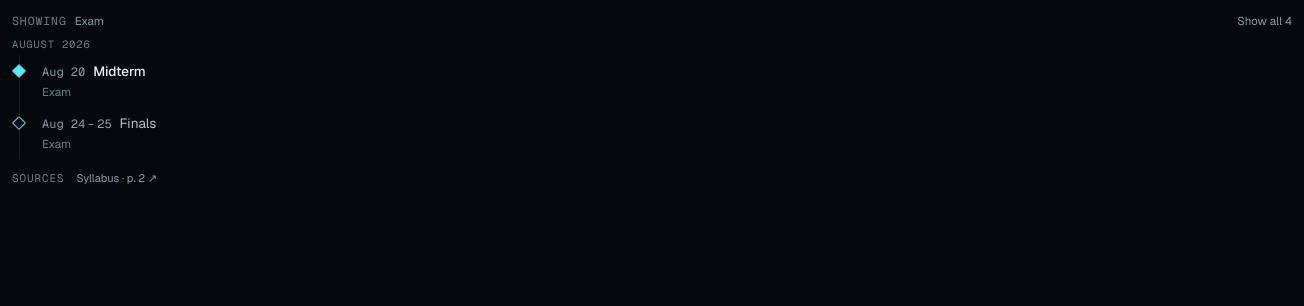
Scenario: temporal views › a focus shows only its events and can reveal the rest
This screenshot has width=1304, height=306.
Expected: the text "Classes start" is not shown
Click the button "Show all 4" at point(1265, 21), box x1=1237 y1=12 x2=1292 y2=29
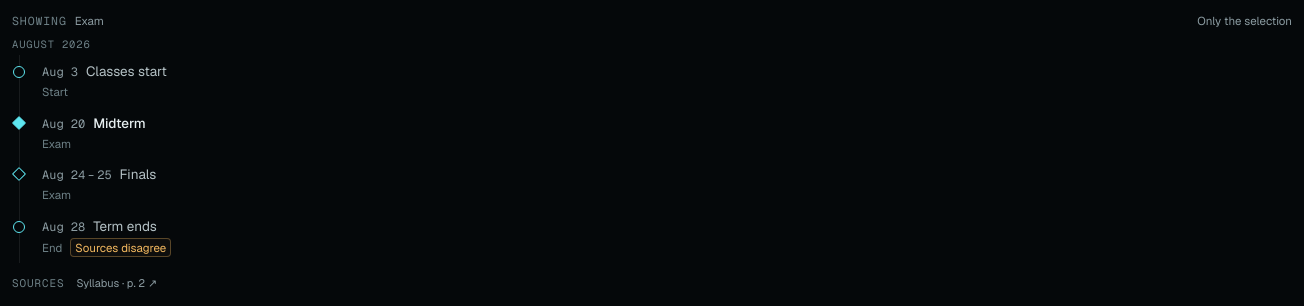
Expected: the text "Classes start" is shown, x1=86 y1=61 x2=167 y2=81
